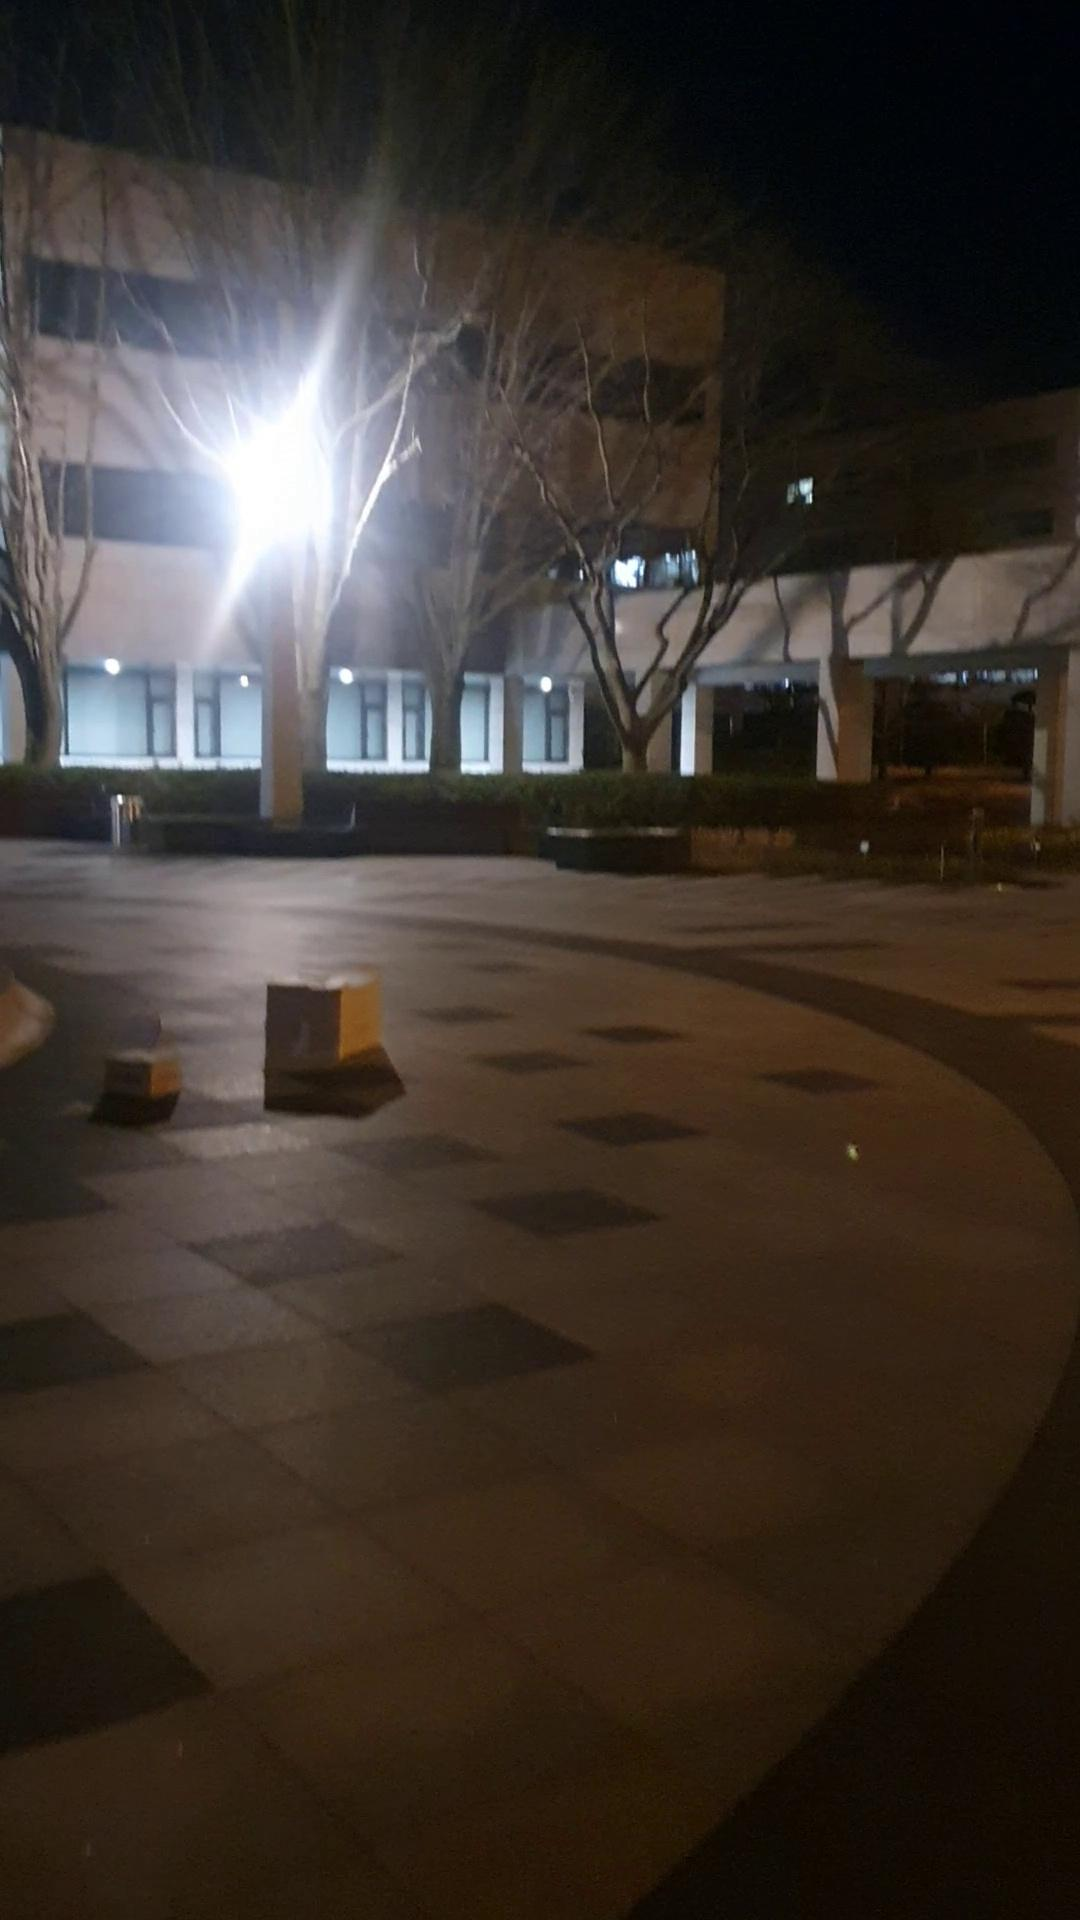Box: (256, 963, 375, 1105), (102, 1044, 183, 1117)
